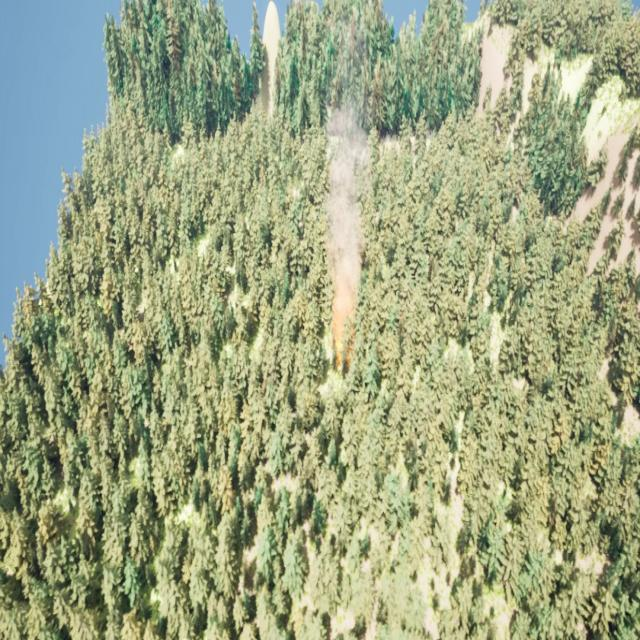smoke: (328, 85, 367, 368)
